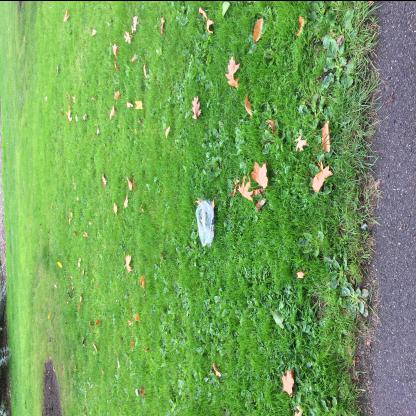plastik: (195, 199, 215, 245)
